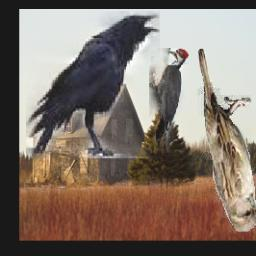Crow: (27, 12, 161, 159)
Sparrow: (198, 48, 256, 232)
Woodpecker: (150, 48, 190, 153)
